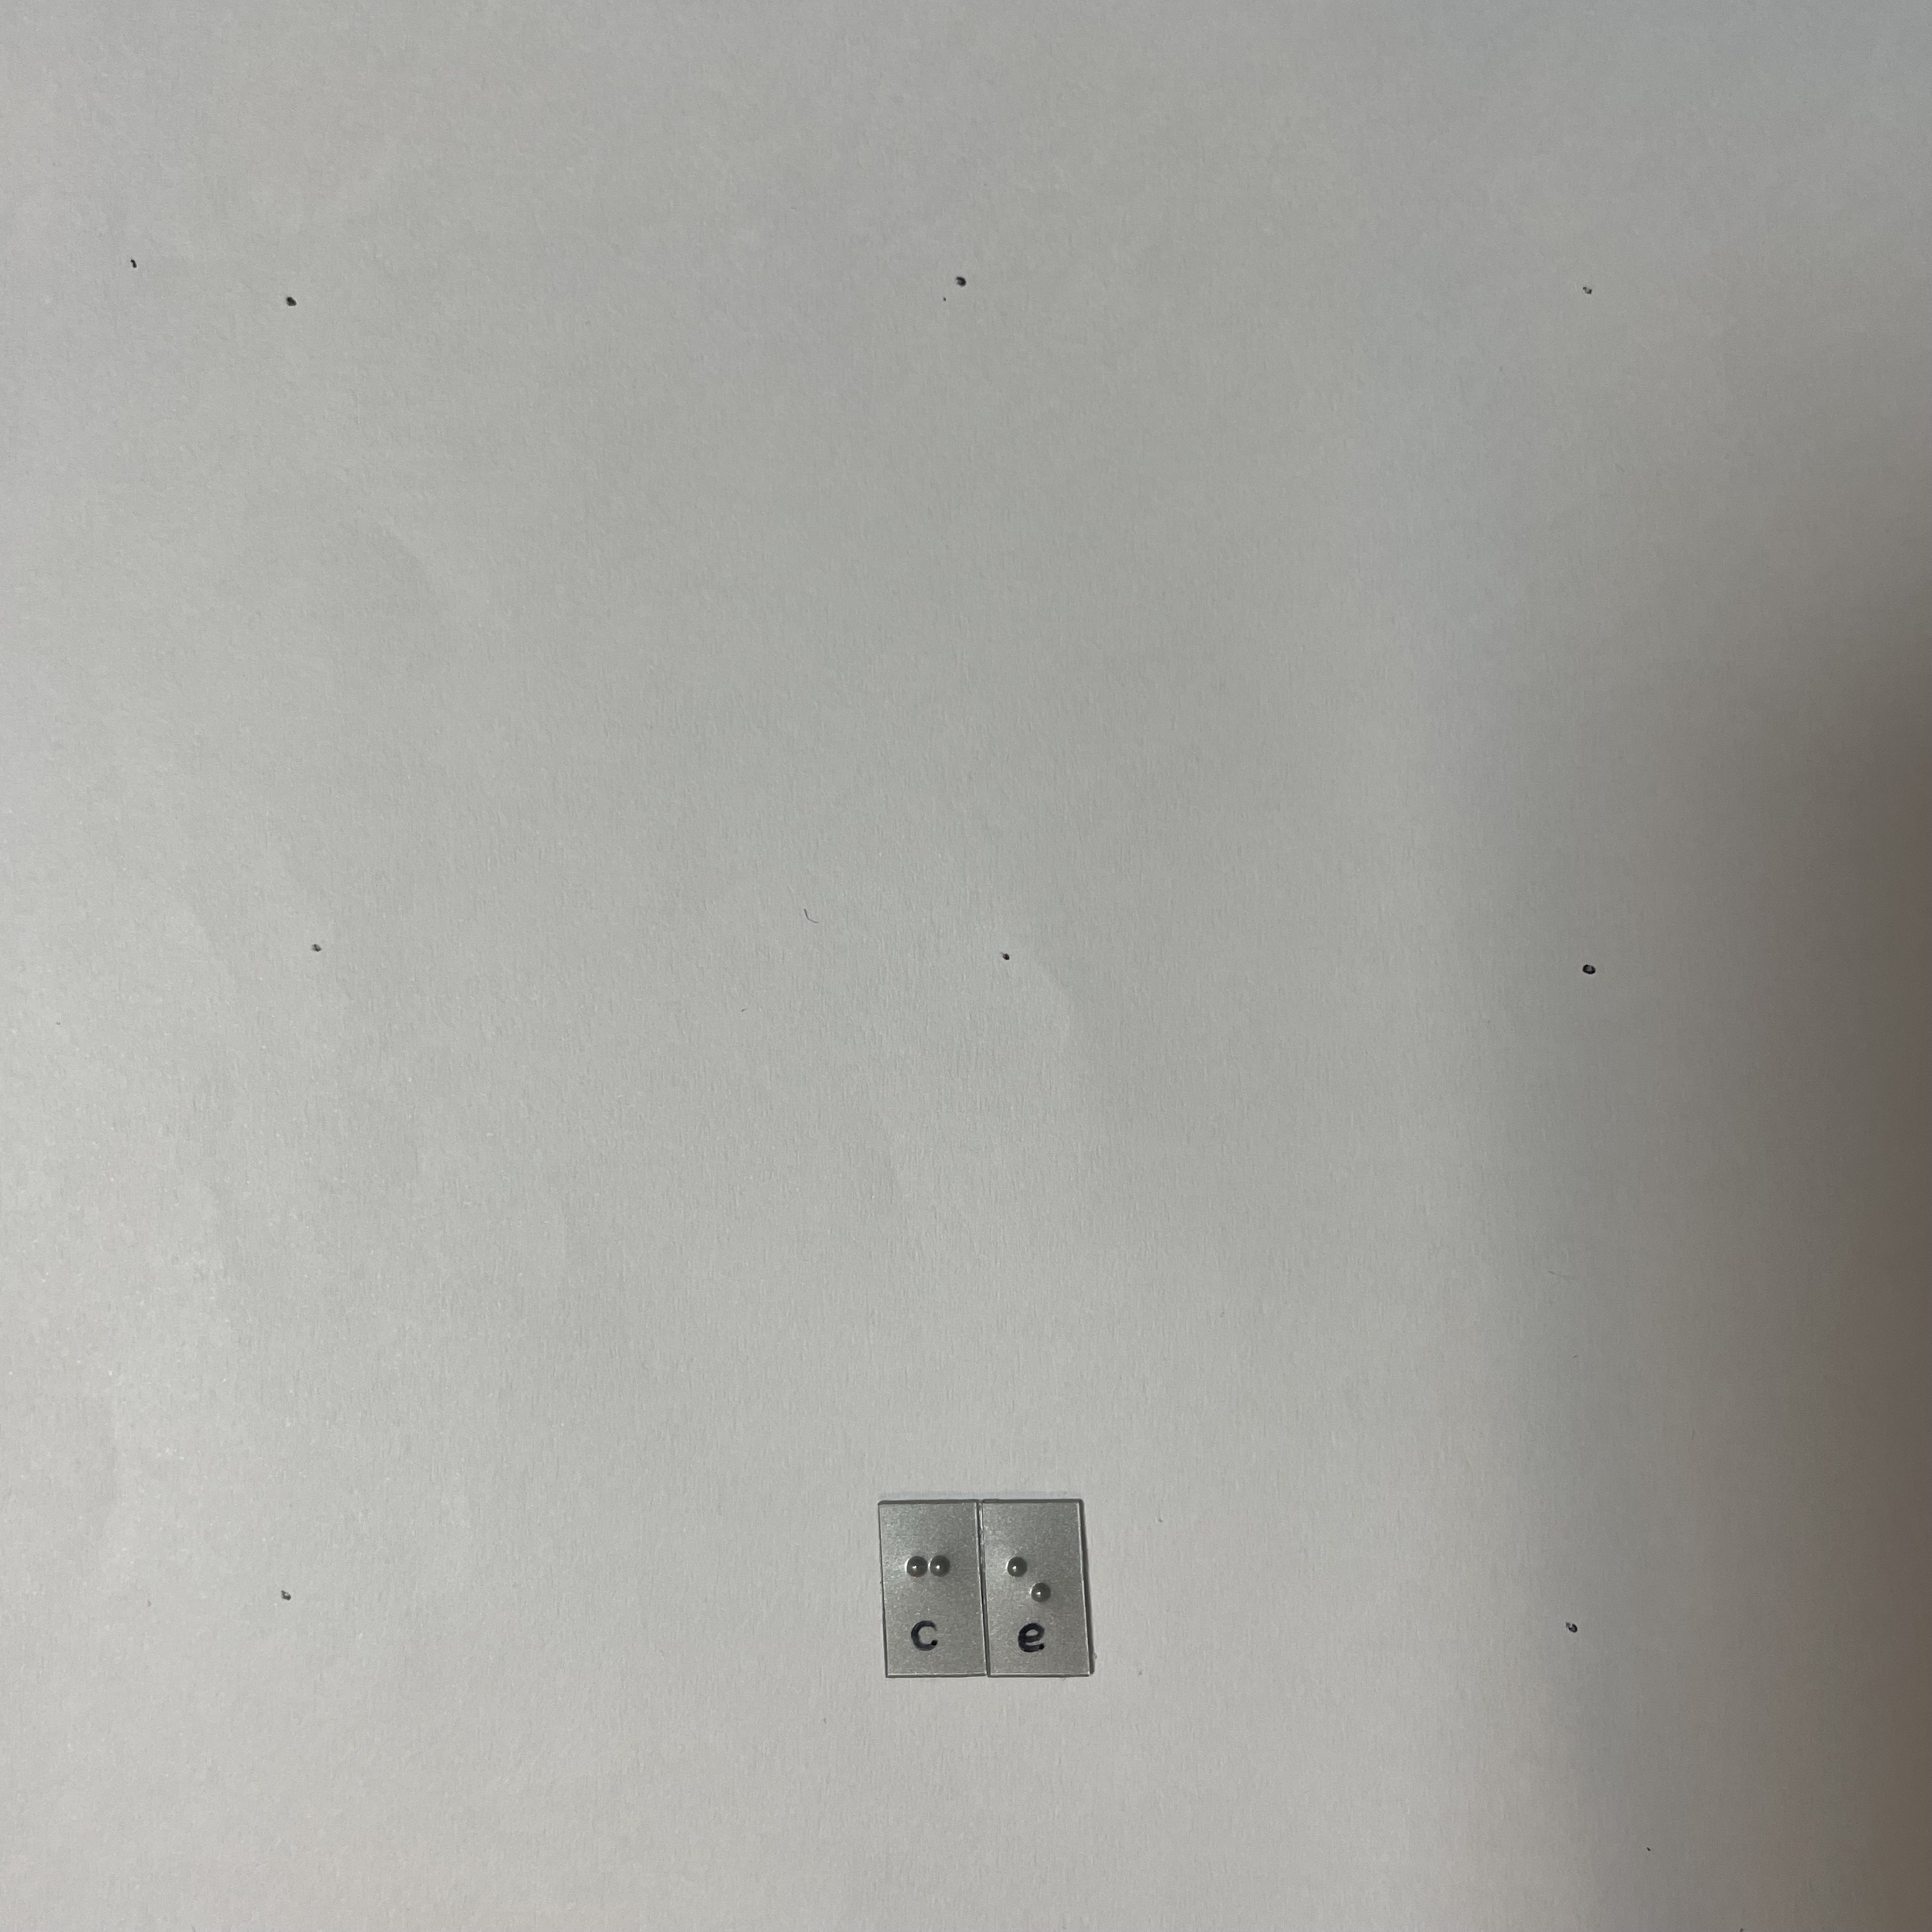c: (901, 1535, 954, 1619)
e: (999, 1542, 1054, 1617)
